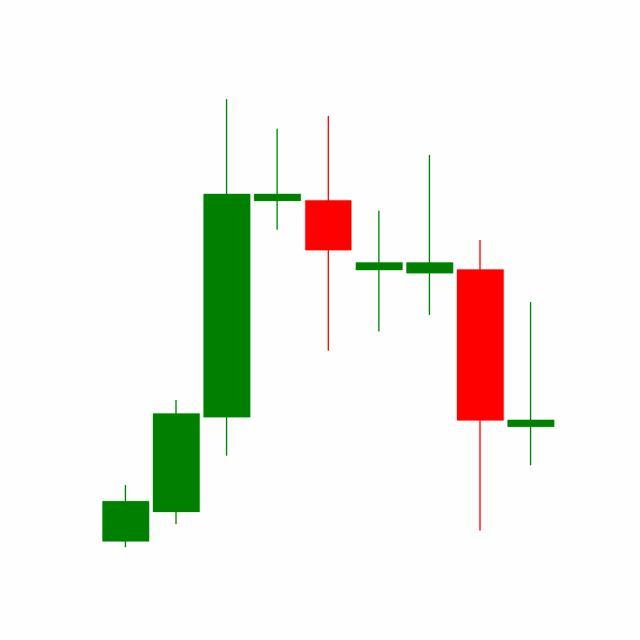Hikkake Pattern: (252, 112, 506, 537)
